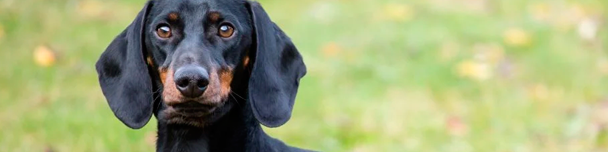dog: (92, 1, 321, 152)
